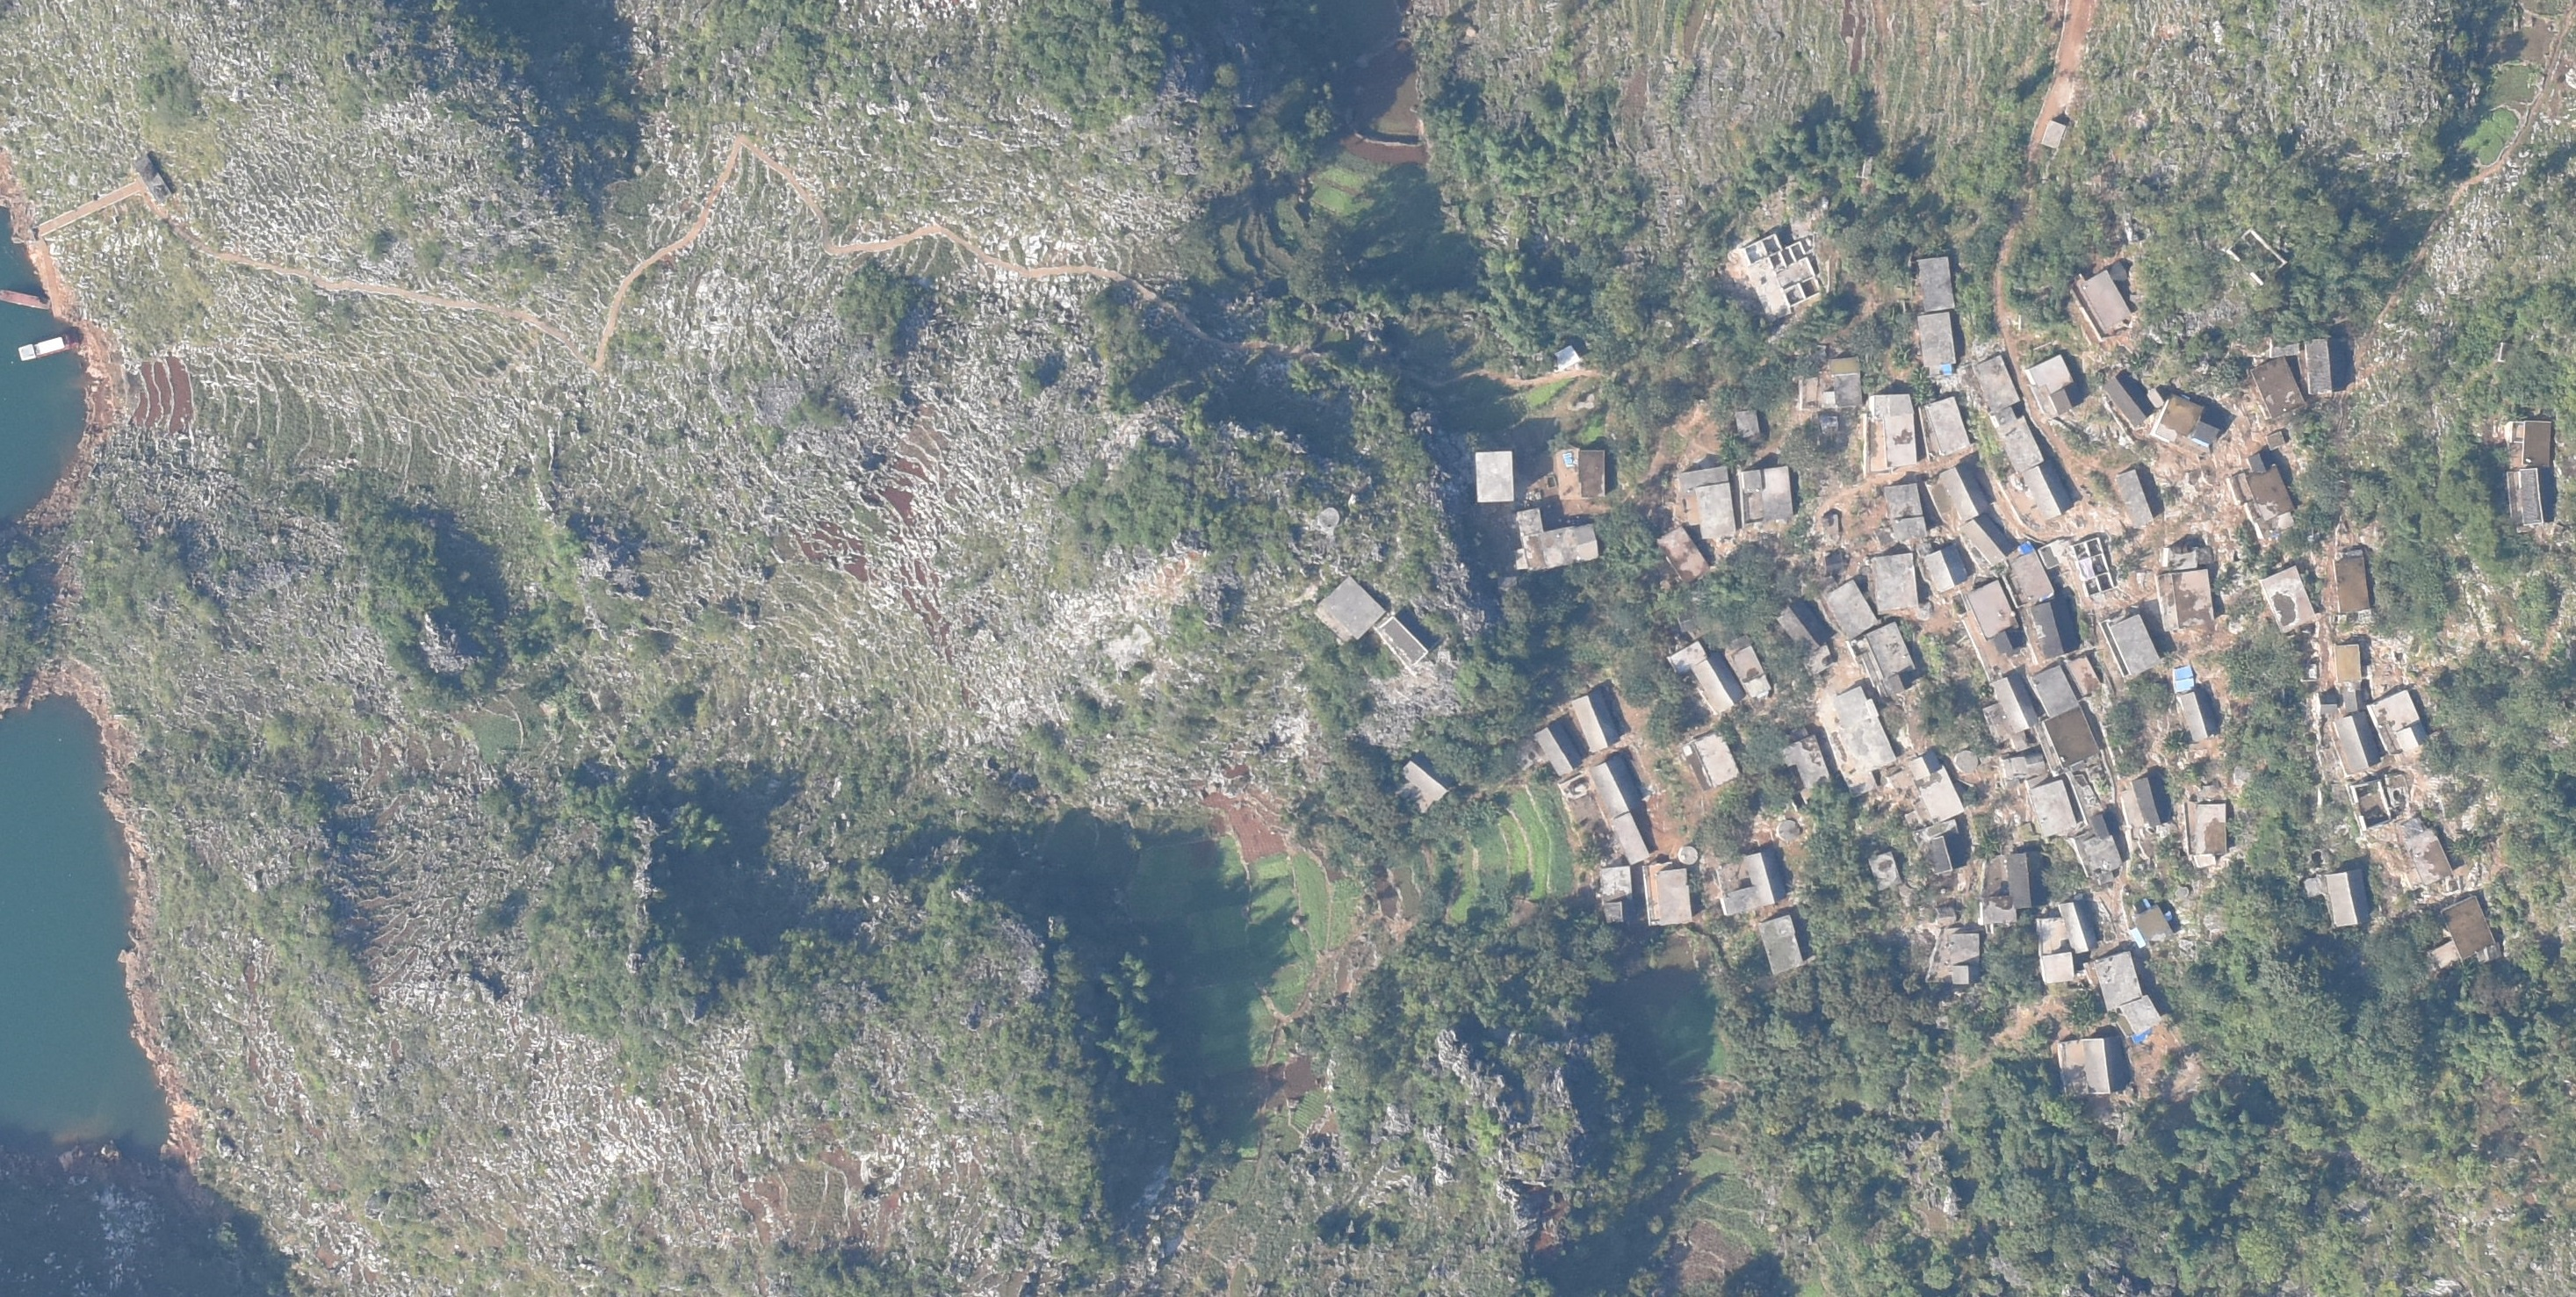building: (1826, 681, 1893, 796), (1741, 231, 1824, 317), (1591, 757, 1655, 867), (1888, 754, 1966, 833), (2092, 951, 2161, 1039), (2226, 455, 2297, 536), (1667, 638, 1743, 711), (1518, 508, 1601, 570), (2428, 899, 2504, 967), (1966, 577, 2024, 660), (2155, 551, 2212, 633), (1774, 601, 1834, 674), (1316, 579, 1384, 643), (1675, 465, 1735, 537), (1981, 854, 2041, 924), (2038, 903, 2093, 981), (1860, 625, 1919, 697), (1799, 349, 1865, 413), (1865, 390, 1915, 473), (2259, 565, 2318, 634), (1985, 672, 2040, 746), (2154, 394, 2221, 454), (1718, 847, 1778, 912), (2248, 356, 2307, 422), (2056, 1039, 2125, 1094), (2070, 815, 2124, 886), (2107, 611, 2163, 678), (2044, 706, 2103, 769), (2371, 688, 2429, 751), (2028, 352, 2083, 418), (2078, 270, 2132, 336), (2401, 815, 2454, 883), (1741, 465, 1796, 528), (1780, 733, 1834, 796), (1921, 396, 1972, 462), (1932, 911, 1977, 985), (1824, 575, 1875, 639), (1929, 468, 1990, 521), (1685, 729, 1741, 786), (2114, 460, 2163, 525), (1870, 552, 1921, 615), (2183, 800, 2229, 868), (2029, 777, 2080, 839), (1644, 859, 1692, 923), (1884, 485, 1931, 548), (2031, 594, 2078, 658), (1976, 356, 2021, 422), (2002, 545, 2051, 605), (1379, 615, 1431, 670), (1656, 526, 1707, 582), (2333, 713, 2382, 771), (1553, 447, 1607, 499), (1573, 688, 1616, 752), (2505, 418, 2558, 469), (1919, 312, 1960, 376), (2502, 467, 2543, 532), (2326, 870, 2371, 927), (1532, 721, 1580, 775), (1962, 516, 2014, 566), (2104, 371, 2150, 426), (1761, 912, 1801, 975), (1995, 419, 2043, 472), (1472, 448, 1517, 503), (1727, 643, 1771, 698), (2333, 552, 2372, 615), (2033, 667, 2082, 716), (2122, 779, 2169, 828), (2025, 463, 2067, 516), (1927, 542, 1966, 596), (1917, 254, 1953, 313), (2304, 334, 2338, 395), (2182, 691, 2220, 742), (1927, 831, 1967, 876), (132, 154, 171, 200), (1403, 760, 1448, 800), (1599, 868, 1631, 922), (2066, 653, 2103, 698), (2133, 902, 2170, 946), (2002, 748, 2049, 777), (2316, 687, 2366, 713), (1869, 848, 1899, 891), (1731, 407, 1761, 443), (2336, 645, 2363, 684), (2039, 538, 2073, 567), (1557, 342, 1583, 372), (2044, 120, 2066, 150), (2266, 429, 2290, 450), (2303, 877, 2327, 898)
prefabricated-house: (2173, 665, 2196, 694)
ship: (18, 335, 69, 362)
well: (1317, 503, 1343, 530), (1775, 817, 1801, 842), (1956, 747, 1978, 777), (1678, 844, 1698, 864)
